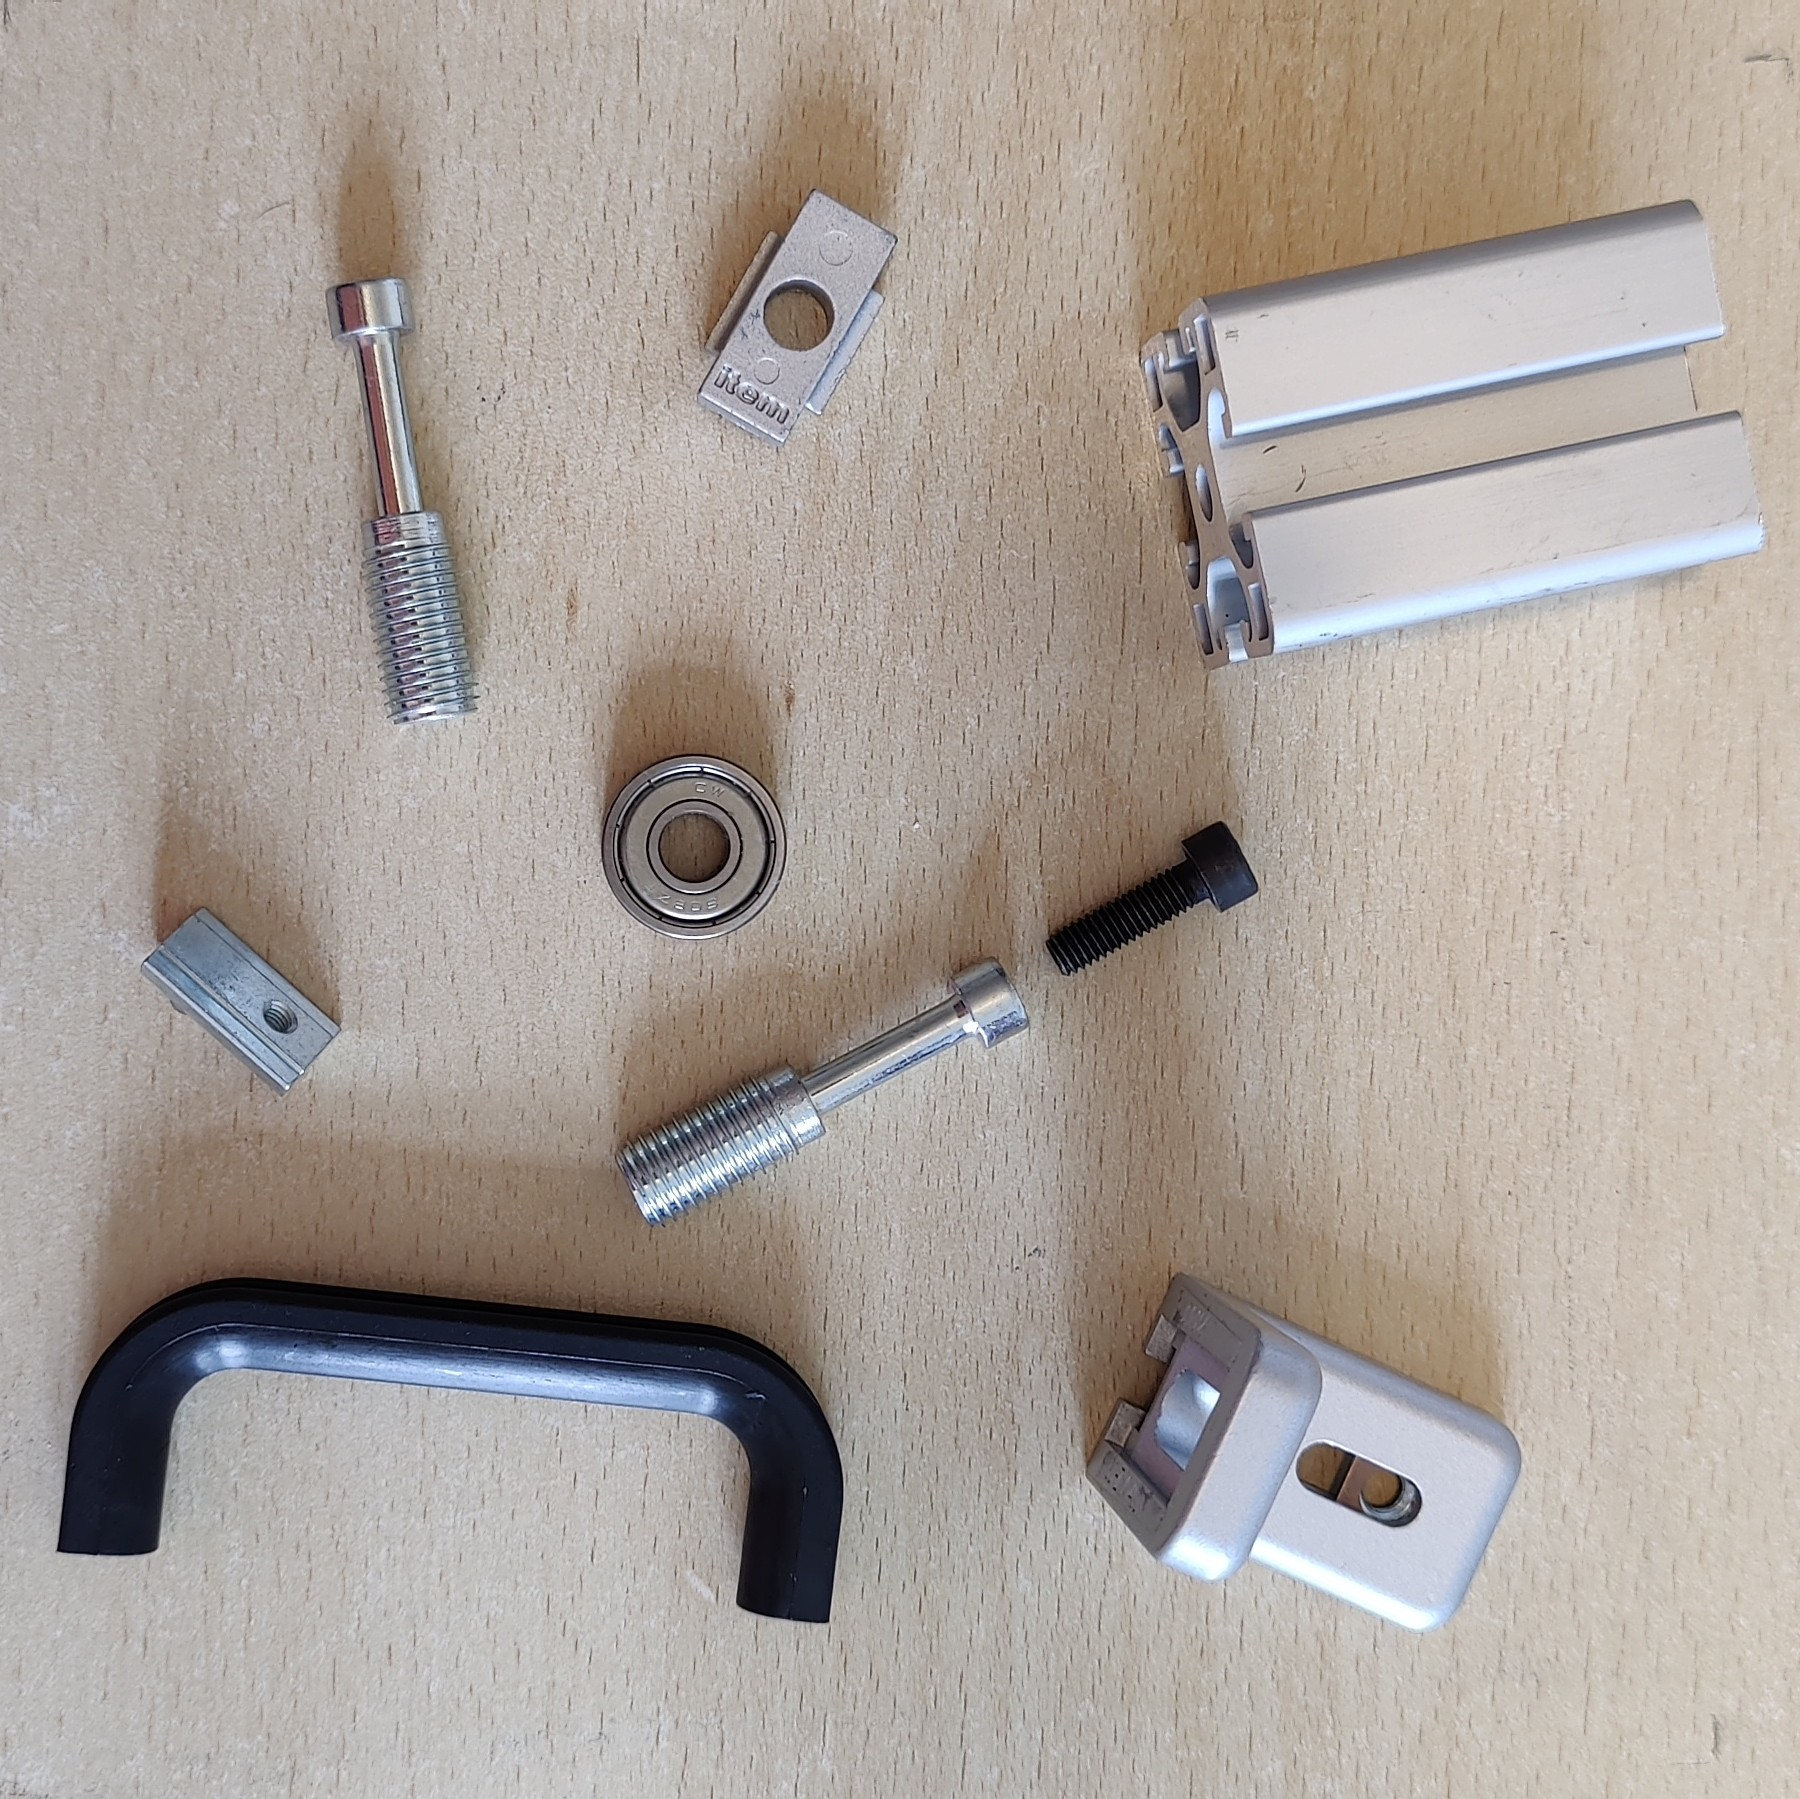Aluminium Extension: (1135, 194, 1765, 675)
Ball Bearing: (599, 750, 787, 946)
Multiwinkel: (1084, 1269, 1525, 1634)
Pull Handle: (53, 1273, 846, 1626)
Shoulder Socket Head Cap Screw: (613, 952, 1033, 1232), (321, 275, 486, 727)
Socket Head Cap Screw: (1042, 817, 1263, 979)
T Nut Square: (690, 188, 899, 453)
T Spring Nut: (137, 903, 344, 1096)
